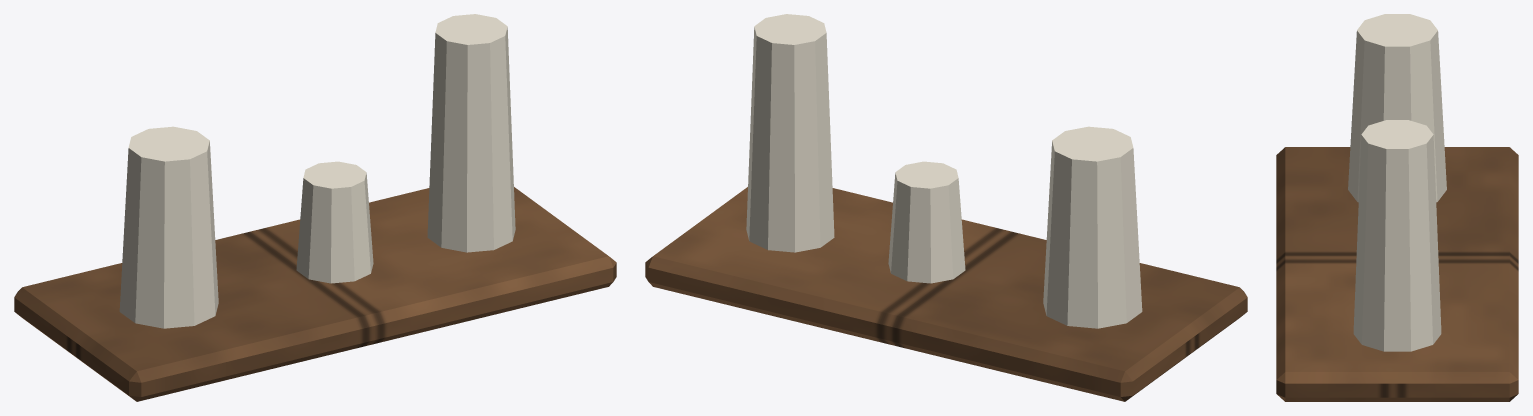
Rendered from Prop_Candles.fbx.
3 views of the same model, side by side, from view 1: azimuth 30°, elevation 25°; view 2: azimuth 150°, elevation 25°; view 3: azimuth 270°, elevation 25° (orthographic). The views are drawn at different scales.
Parts seen in each view (by area): view 1: Prop_Candles; view 2: Prop_Candles; view 3: Prop_Candles.
Boxes of the visible parts, left/top/right/bottom form: Prop_Candles: left=14, top=14, right=616, bottom=401; Prop_Candles: left=645, top=14, right=1247, bottom=401; Prop_Candles: left=1276, top=14, right=1518, bottom=401.
Bounding box in the file's own units: 0.5 × 0.23 × 0.22.
